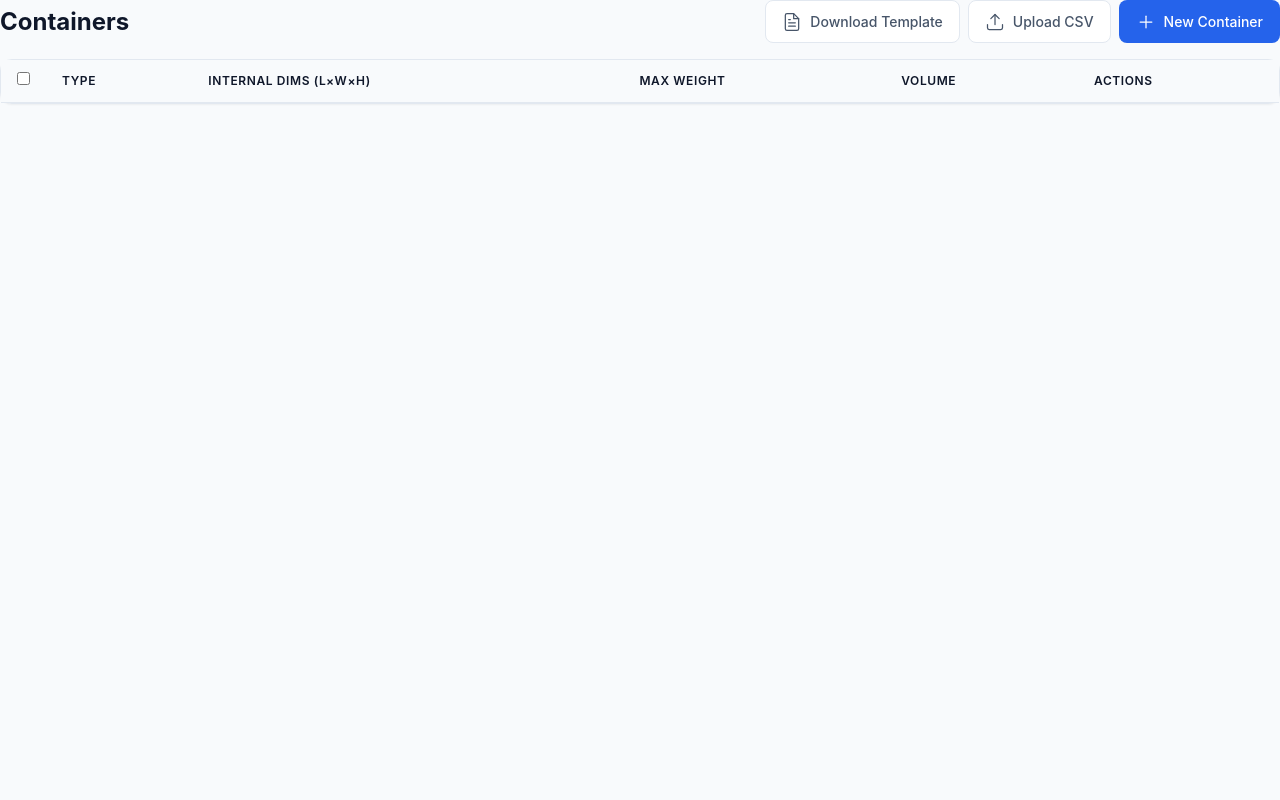
Test: + New Modal (Section 6.4 - FE-17 to FE-19) › Container + New Modal › FE-17: Container + New modal has same fields as standalone editor
The image size is (1280, 800).
Click the button "New Container". click: (1199, 22)
box: [1119,0,1279,43]
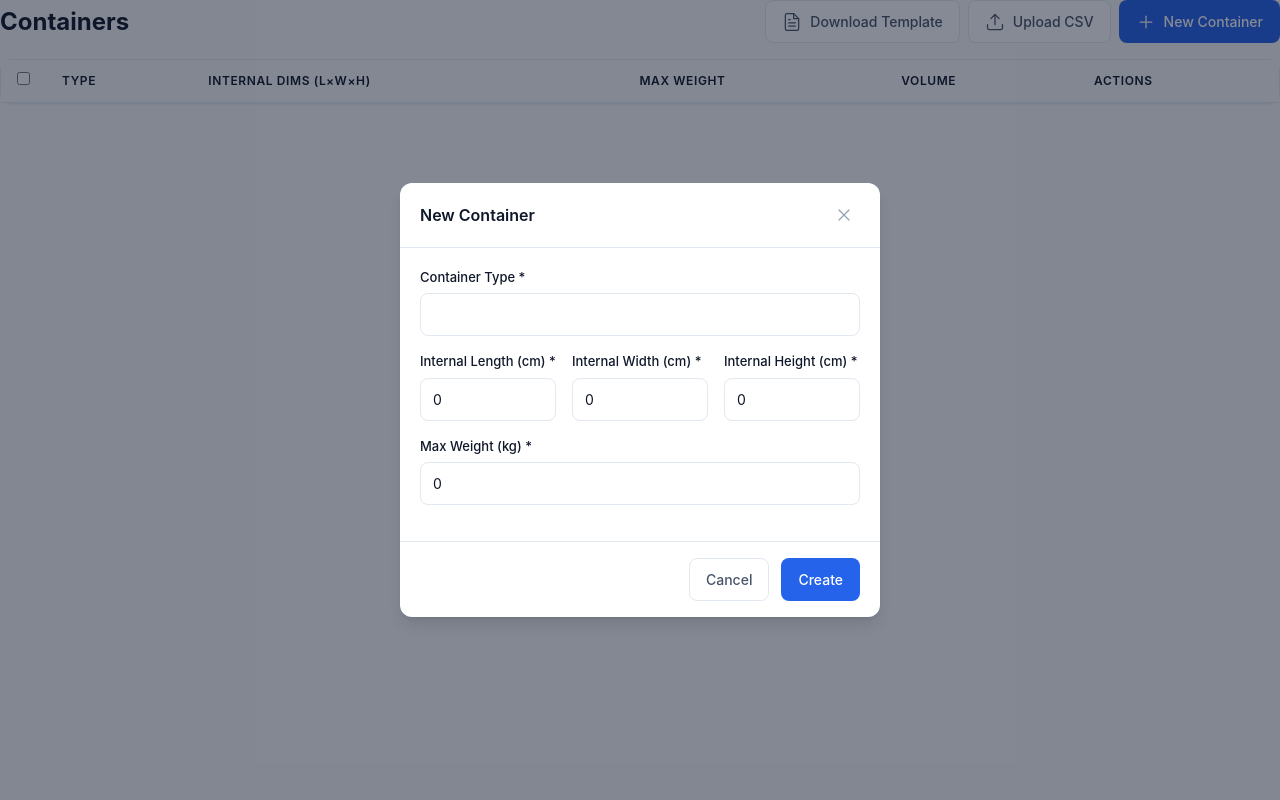
Result: the dialog is shown at [400,183,880,617]
Result: the number field labelled "Internal Length (cm) *" is shown at [420,378,556,421]
Result: the number field labelled "Internal Width (cm) *" is shown at [572,378,708,421]
